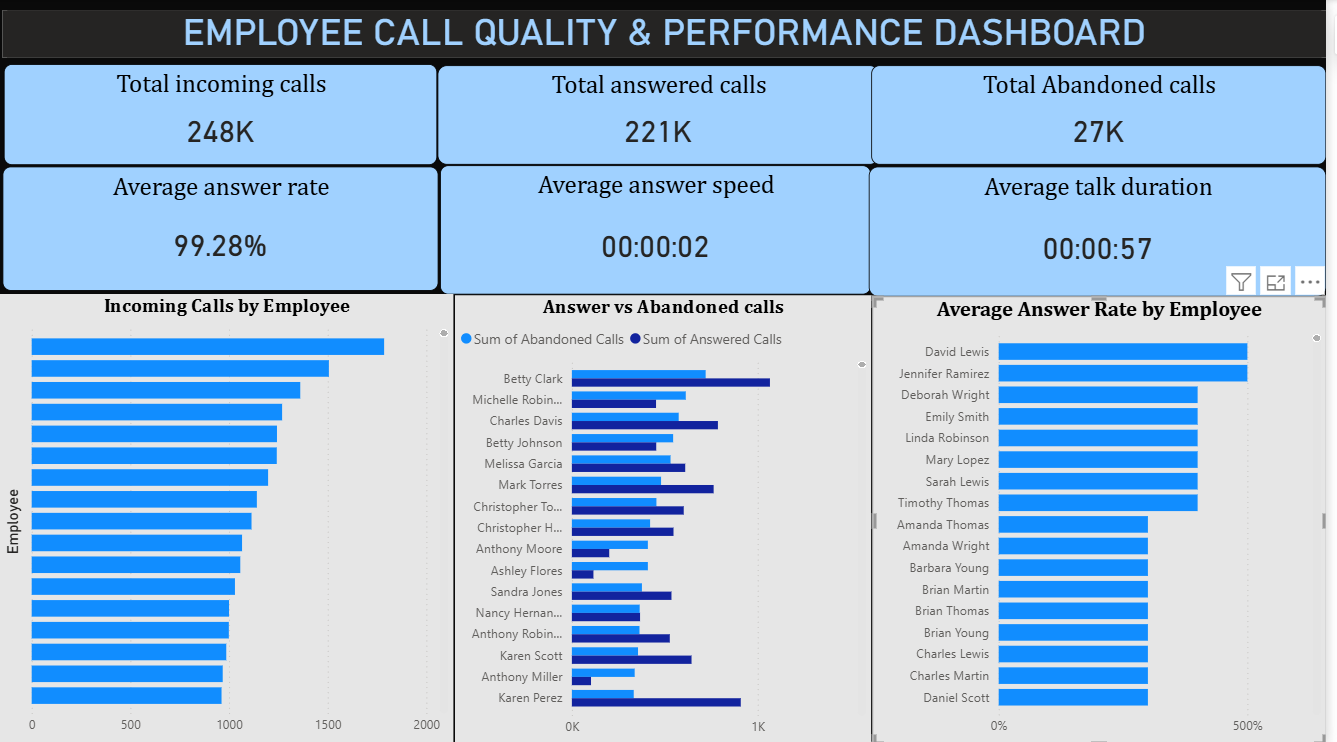

Layout of this report page (visuals, bound fields, positions):
{"tool":"powerbi","page":{"name":"Page 1","canvas":[1280,720],"ordinal":0},"visuals":[{"type":"card","title":"    Total incoming calls","fields":{"Values":["Sum(CLEANED DATA.Incoming Calls)"]},"box":[3.4,62.3,418.6,97.7],"z":0},{"type":"card","title":"Total answered calls","fields":{"Values":["Sum(CLEANED DATA.Answered Calls)"]},"box":[422,64.2,426.1,96.3],"z":1000},{"type":"card","title":"Total Abandoned calls","fields":{"Values":["Sum(CLEANED DATA.Abandoned Calls)"]},"box":[841.1,64.2,438.9,96.3],"z":2000},{"type":"card","title":"Average answer rate","fields":{"Values":["Avg(CLEANED DATA.Answer Rate)"]},"box":[2.4,161.7,420.6,119.7],"z":3000},{"type":"card","title":"Average answer speed","fields":{"Values":["Min(CLEANED DATA.Answer Speed (AVG))"]},"box":[424.9,160.2,416,124.5],"z":4000},{"type":"card","title":"Average talk duration","fields":{"Values":["Min(CLEANED DATA.Talk Duration (AVG))"]},"box":[838.2,161.7,441.8,125.5],"z":5000},{"type":"clusteredBarChart","title":"Incoming Calls by Employee","fields":{"Category":["CLEANED DATA.Employee"],"Y":["Sum(CLEANED DATA.Incoming Calls)"]},"box":[0,285,437.7,434.1],"z":6000},{"type":"clusteredBarChart","title":"Answer vs Abandoned calls","fields":{"Category":["CLEANED DATA.Employee"],"Y":["Sum(CLEANED DATA.Abandoned Calls)","Sum(CLEANED DATA.Answered Calls)"]},"box":[438.9,285.7,402,434.6],"z":7000},{"type":"clusteredBarChart","title":"Average Answer Rate by Employee","fields":{"Category":["CLEANED DATA.Employee"],"Y":["Avg(CLEANED DATA.Answer Rate)"]},"box":[842,287,438,433],"z":8000},{"type":"textbox","title":"EMPLOYEE CALL QUALITY & PERFORMANCE DASHBOARD","box":[2.4,10.6,1277.6,45.8],"z":8001}]}

Visuals, with their boxes in screenshot pixels (x1, y1, x2, y2), scaled from the page's 1280x720 canvas onto the 1337x742 screenshot:
"    Total incoming calls" card: 4:64:441:165
"Total answered calls" card: 441:66:886:165
"Total Abandoned calls" card: 879:66:1336:165
"Average answer rate" card: 3:167:442:290
"Average answer speed" card: 444:165:878:293
"Average talk duration" card: 876:167:1336:296
"Incoming Calls by Employee" clusteredBarChart: 0:294:457:741
"Answer vs Abandoned calls" clusteredBarChart: 458:294:878:741
"Average Answer Rate by Employee" clusteredBarChart: 879:296:1336:741
"EMPLOYEE CALL QUALITY & PERFORMANCE DASHBOARD" textbox: 3:11:1336:58
